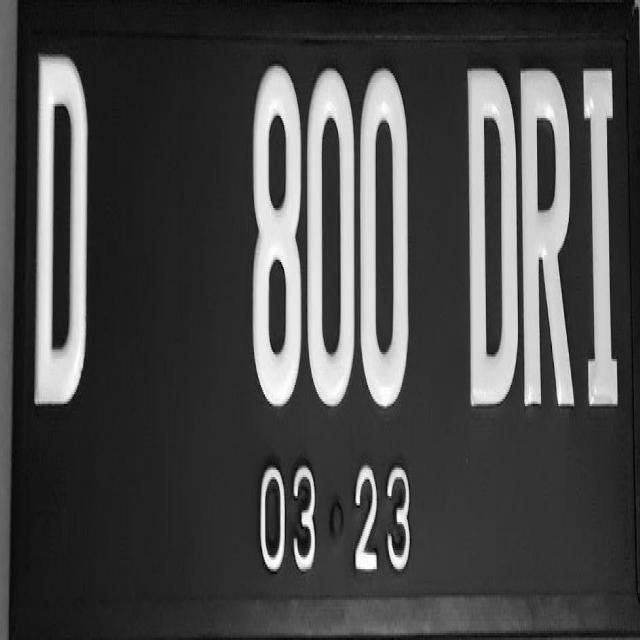0: (350, 58, 410, 412), (306, 58, 352, 411)
8: (240, 58, 306, 410)
D: (18, 40, 102, 430), (450, 60, 522, 410)
I: (573, 60, 633, 416)
R: (520, 62, 574, 411)
